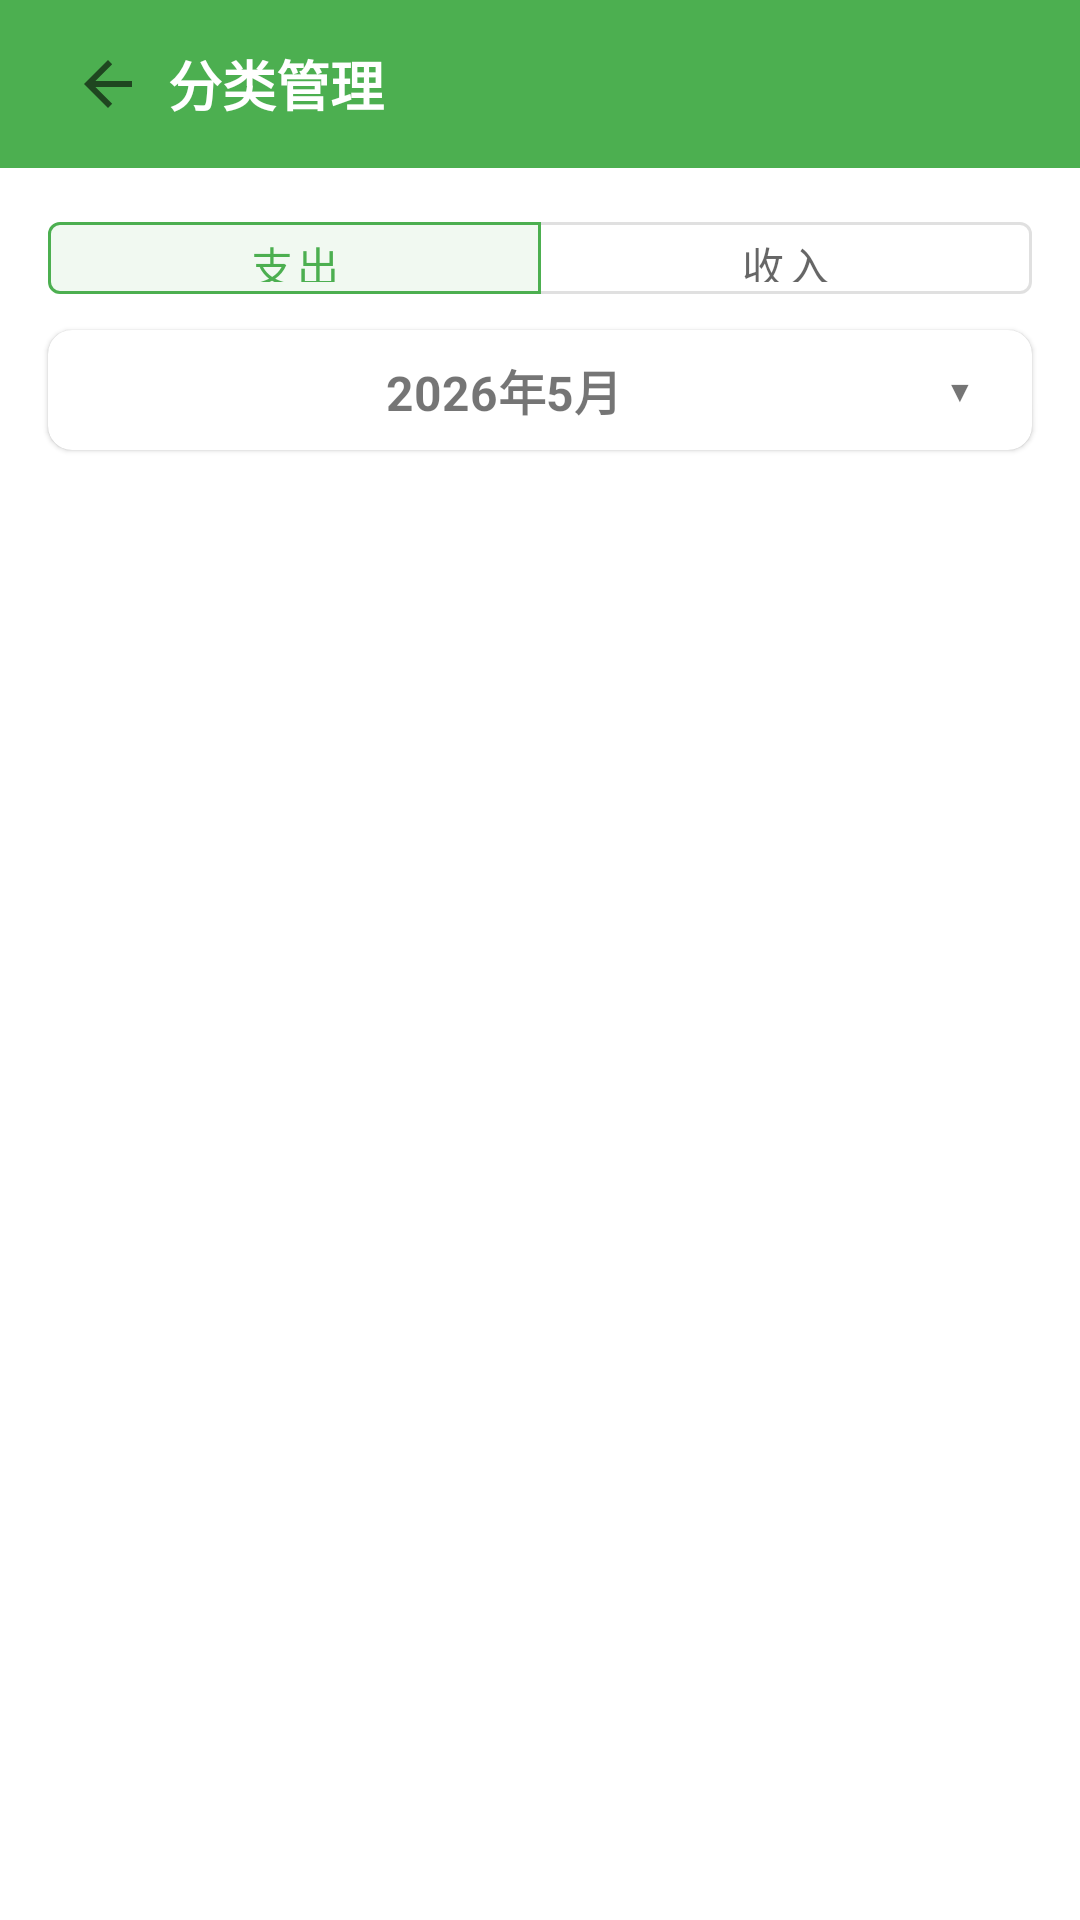

Named icons in this screenshot (1080x1920) and their centers, (x,y):
返回: (108,84)
